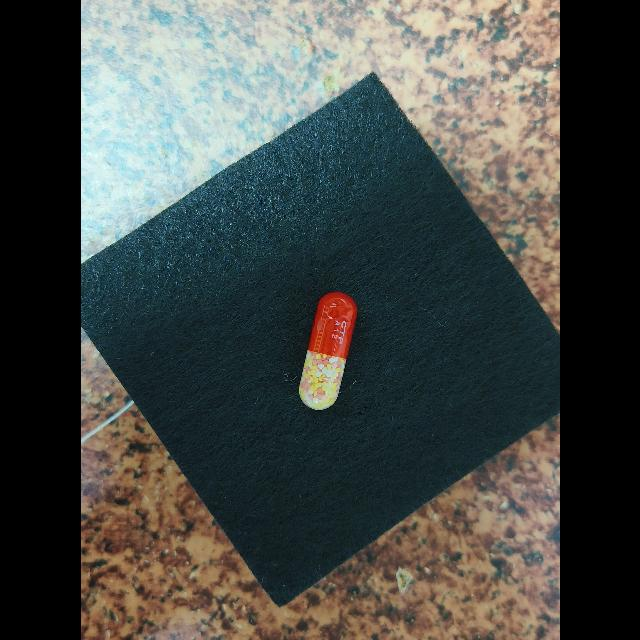Intact Capsule: (299, 292, 357, 410)
